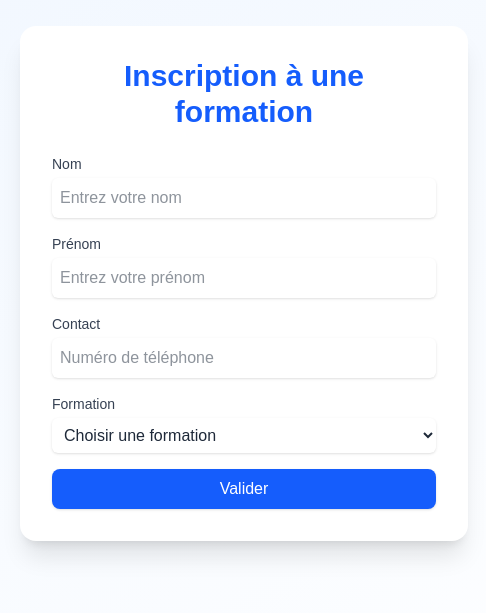
Inscription utilisateur › Affiche des erreurs si le formulaire est vide
Click the submit button: (244,489) [52,469,436,509]
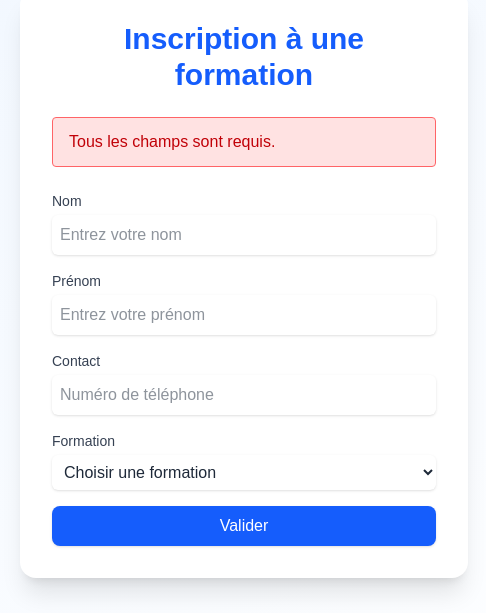
Result: the text with test id "erreur" reads "Tous les champs sont requis." at [69,133,275,150]
